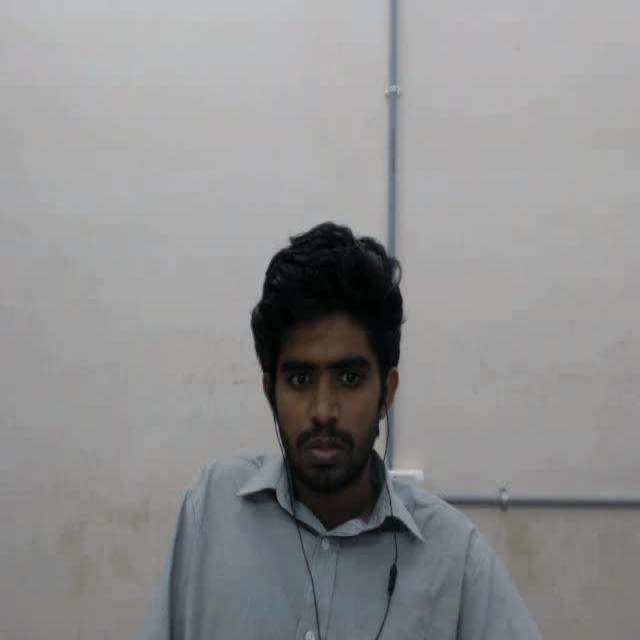Engaged: (232, 189, 424, 508)
